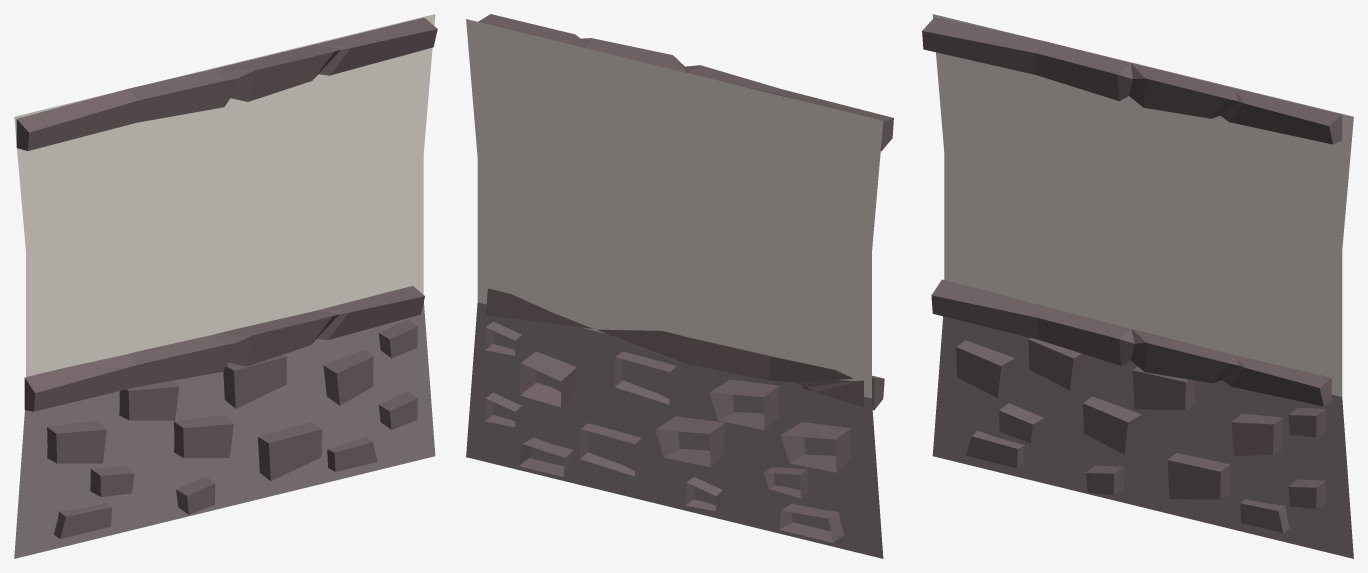
File: SM_L_R_Home_Side.fbx
3 views of the same model, side by side, from view 1: azimuth 30°, elevation 25°; view 2: azimuth 150°, elevation 25°; view 3: azimuth 330°, elevation 25° (orthographic).
Visible parts, largest first — view 1: SM_L_R_Home_Side; view 2: SM_L_R_Home_Side; view 3: SM_L_R_Home_Side.
Boxes of the visible parts, x1,y1,x2,y2 form: SM_L_R_Home_Side: [14, 14, 437, 558]; SM_L_R_Home_Side: [466, 14, 893, 558]; SM_L_R_Home_Side: [922, 14, 1353, 558].
Size of the model in its own units: 3 by 3.01 by 0.3975.
